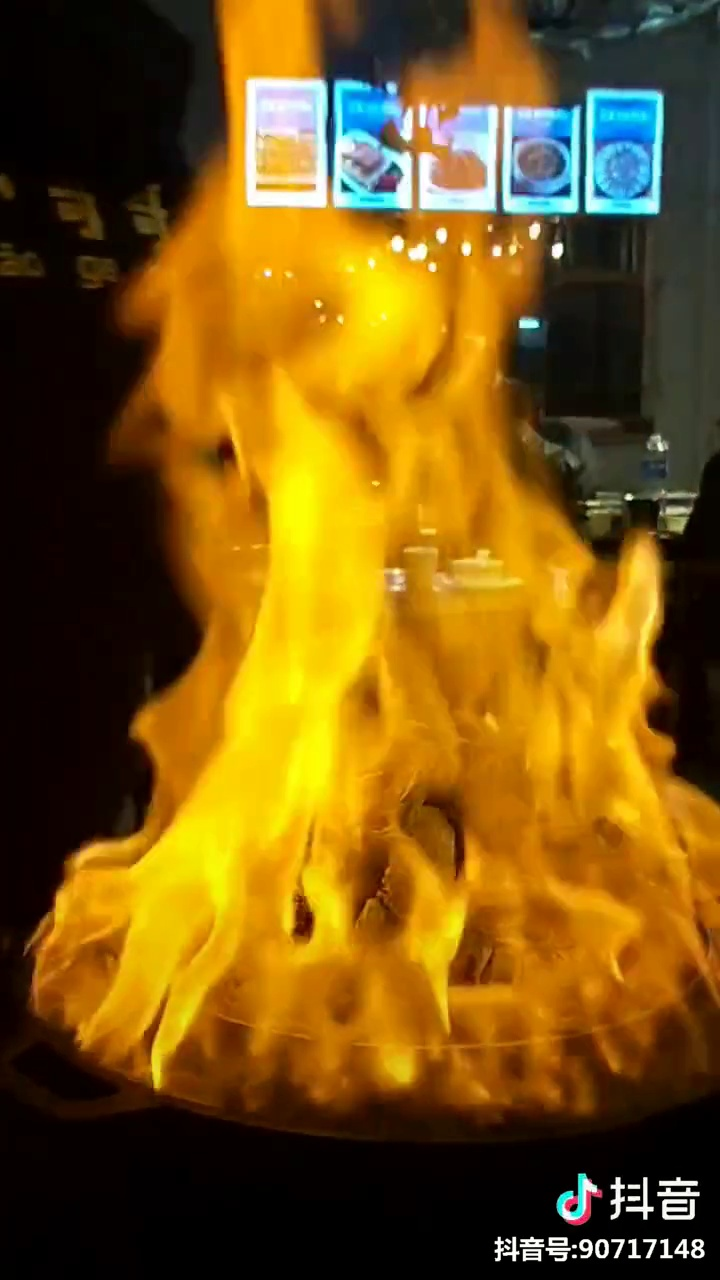fire: (86, 216, 686, 1094)
